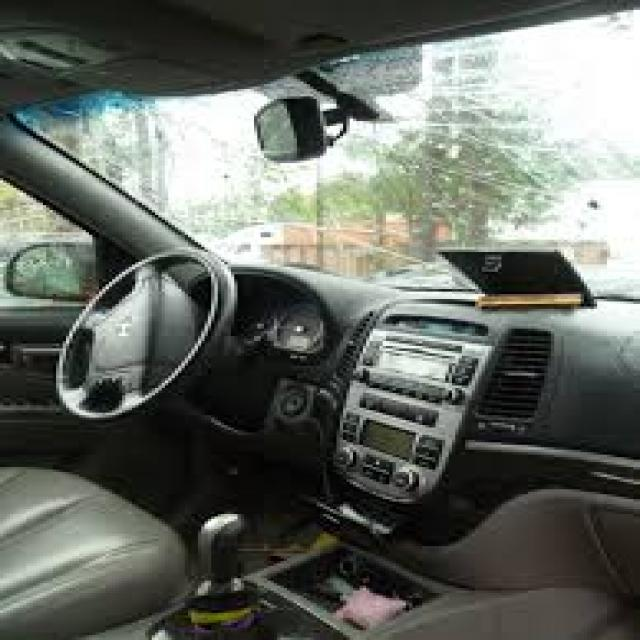damaged-windscreen: (45, 9, 640, 298)
